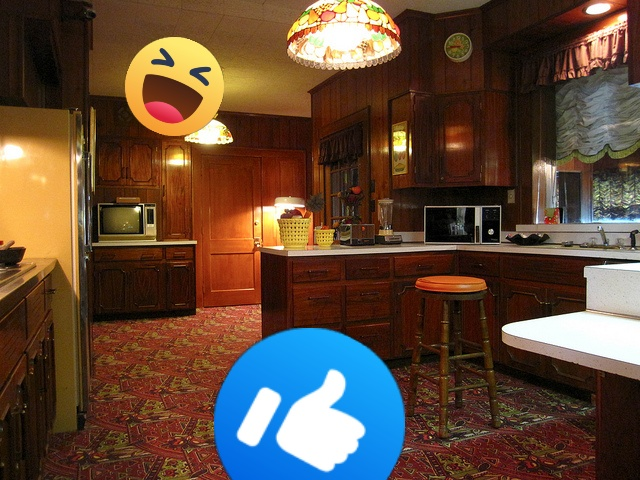haha: (125, 37, 224, 136)
like: (214, 328, 405, 480)
